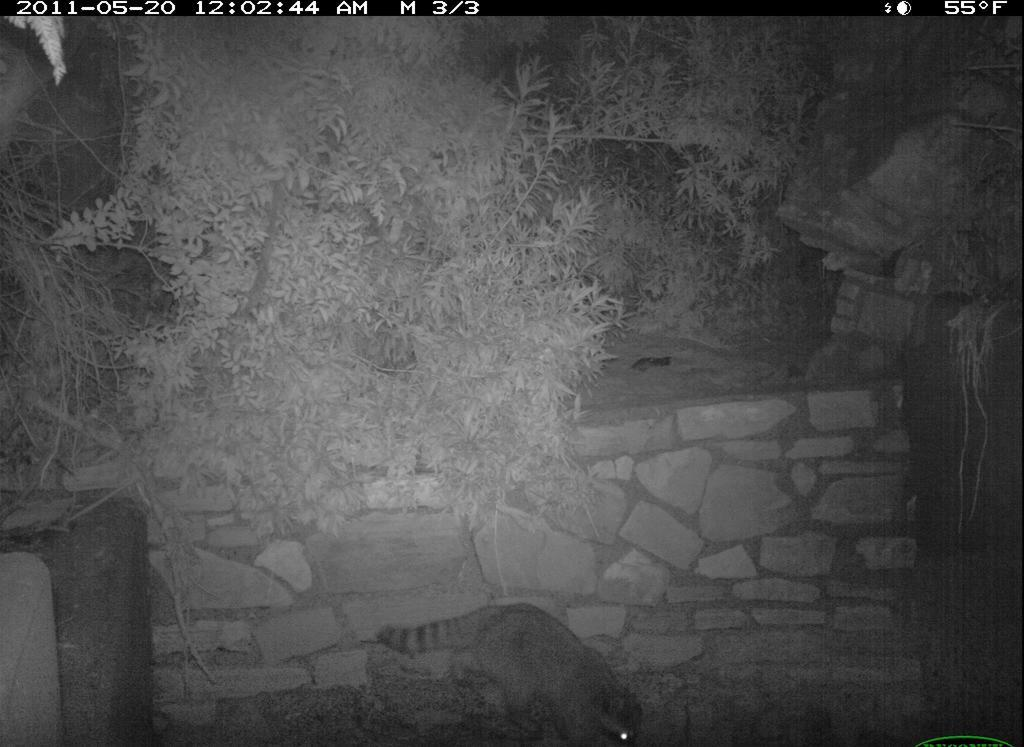raccoon: (373, 598, 649, 747)
